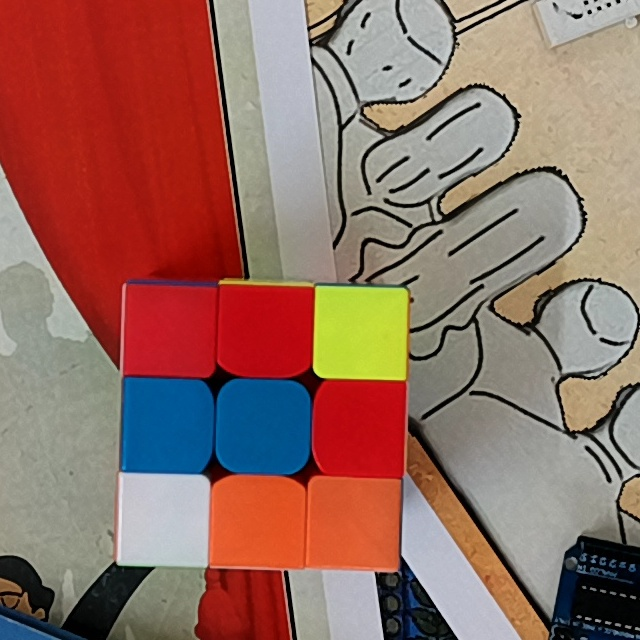tile: (319, 288, 403, 374), (119, 478, 204, 561), (224, 285, 305, 370), (129, 285, 207, 369), (126, 381, 203, 466), (323, 385, 399, 470), (315, 483, 395, 563), (217, 486, 297, 564), (223, 387, 300, 467)
